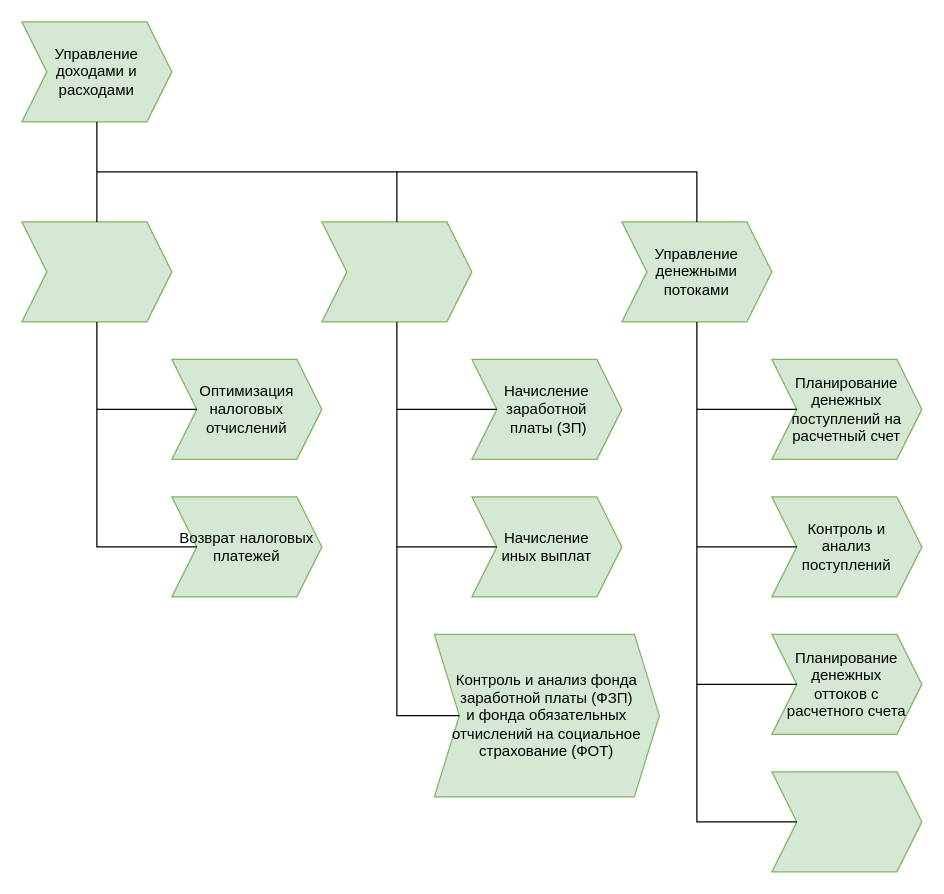
Some shapes in this 944 by 894 pixel diagram are drawn without their labels. The shapes that lost their labels are listed below. From the top down, each one's centre as x and y in pixels, then its label:
At pixel 96 271: "Управление налогами".
At pixel 396 271: "Управление затратами на персонал".
At pixel 846 821: "Контроль и анализ денежных оттоков".
